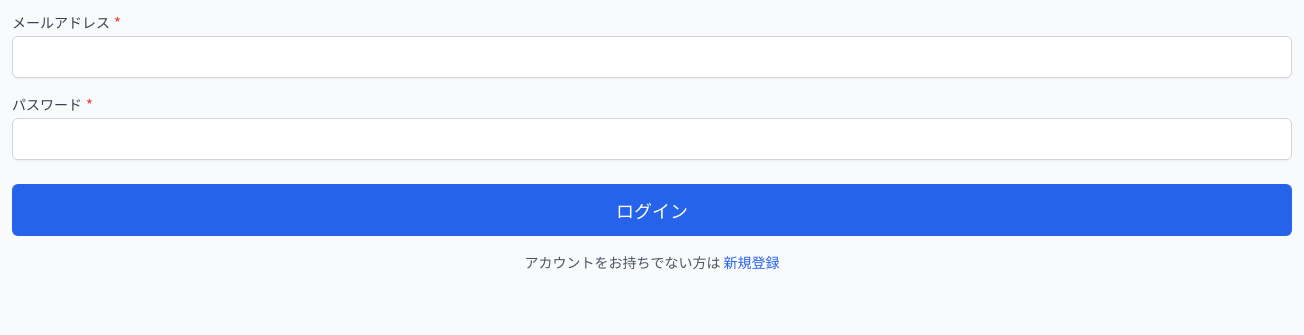
Scenario: LoginForm › 空のままログインボタンを押すとバリデーションエラーが表示される
Click the button "ログイン" at (652, 210), box [12, 184, 1292, 236]
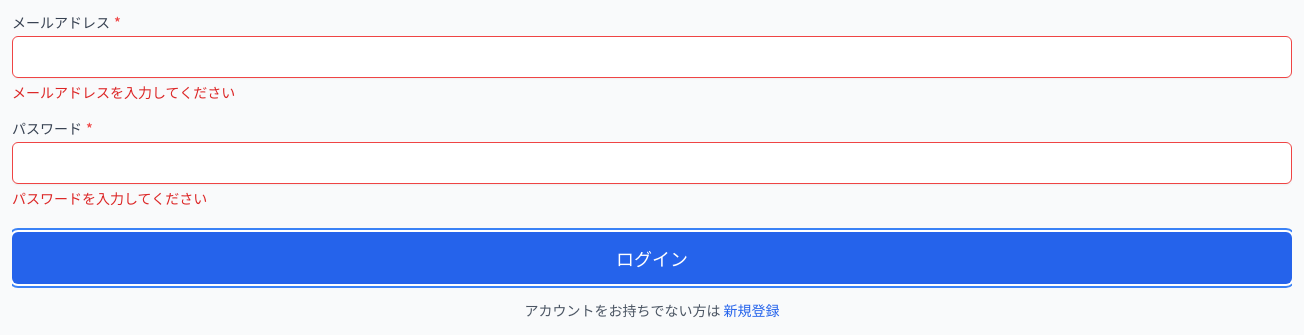
expect the text "メールアドレスを入力してください" is shown: met, box [12, 82, 235, 102]
expect the text "パスワードを入力してください" is shown: met, box [12, 188, 207, 208]
